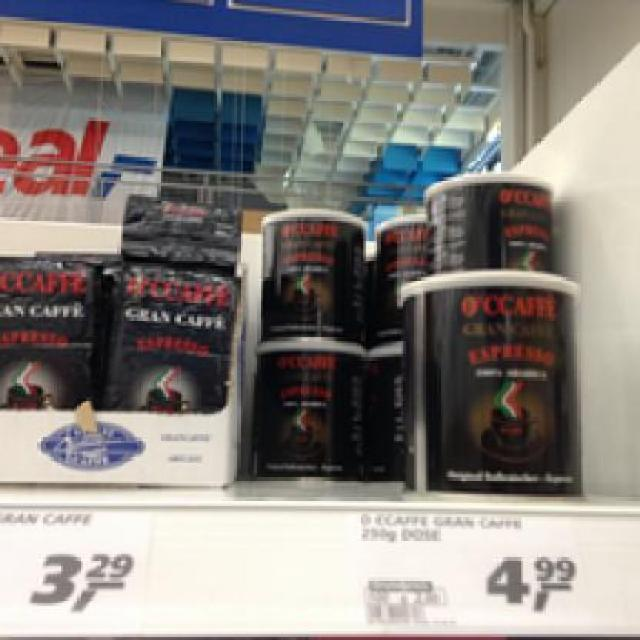Coffee: (386, 259, 571, 492), (100, 260, 234, 409), (246, 334, 366, 477), (255, 203, 372, 334), (0, 254, 97, 406)
